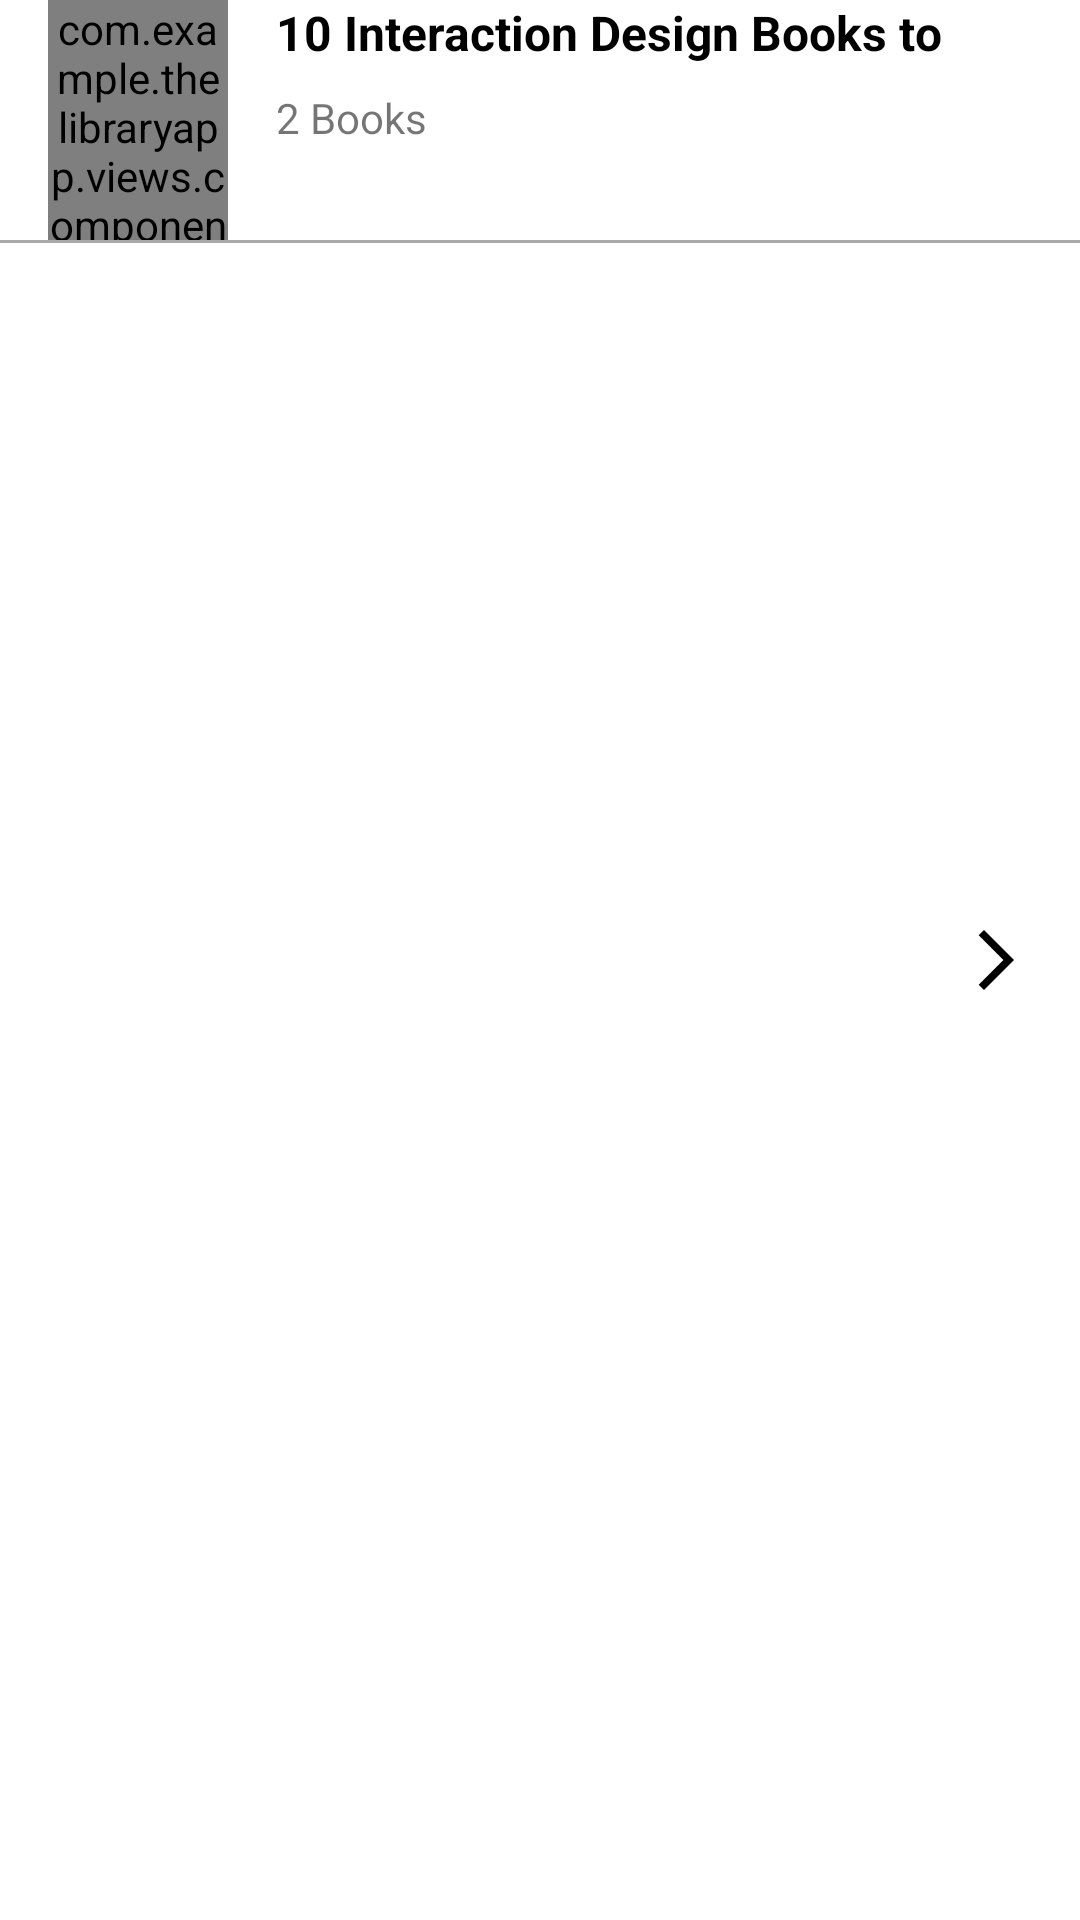

Icon click points for this 1080w x 1920h phone screenshot, format (x,y):
arrow forward: (996,960)
